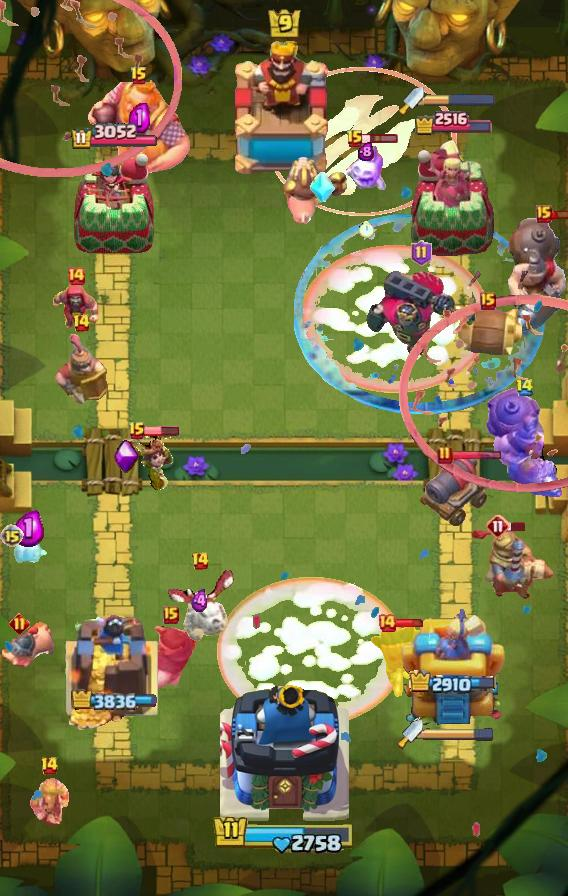bar: (401, 601, 505, 731), (409, 138, 497, 256)
bat: (7, 540, 49, 574)
bomber-evolution: (131, 432, 175, 492)
bowler: (51, 281, 101, 337)
clock: (212, 814, 356, 856)
earthquake: (54, 332, 108, 404)
electro-spirit: (13, 510, 43, 547), (130, 103, 151, 133), (191, 589, 209, 613), (358, 143, 374, 161)
elixir: (359, 221, 373, 238)
emote: (450, 451, 502, 462), (361, 133, 398, 145), (144, 425, 180, 437), (394, 618, 426, 628), (507, 521, 527, 532), (550, 208, 568, 219)
executioner: (0, 622, 54, 672)
freeze: (283, 155, 347, 229)
giant-skeleton: (86, 76, 192, 178)
goblin-barrel: (369, 623, 429, 699)
ice-wizard: (267, 67, 457, 217)
inferno-tower: (365, 269, 477, 357)
king-tower: (219, 678, 349, 826), (228, 41, 340, 181)
king-tower-bar: (424, 93, 496, 107), (423, 727, 495, 741)
mini-pekka: (164, 566, 236, 644)
mirror: (345, 143, 387, 193)
pad_0: (294, 212, 548, 414)
pad_2: (310, 172, 336, 204)
phoenix-big: (298, 243, 492, 394), (216, 578, 406, 727)
queen-tower: (62, 613, 165, 731), (71, 152, 157, 256)
ram-rider: (469, 527, 557, 601)
royal-giant-evolution: (419, 454, 489, 528)
royal-hog: (144, 622, 198, 698)
selected: (69, 123, 158, 151), (410, 671, 499, 698), (413, 109, 493, 136), (70, 691, 157, 709)
skeleton-barrel: (400, 270, 568, 493), (0, 0, 182, 179)
skeleton-king-skill: (114, 439, 140, 473)
text: (486, 514, 510, 538), (0, 524, 24, 548), (412, 240, 433, 266), (9, 614, 30, 635), (66, 266, 86, 286), (377, 613, 397, 633), (72, 313, 91, 333), (191, 551, 210, 571), (40, 756, 59, 776), (514, 379, 533, 398), (130, 66, 148, 86), (346, 129, 364, 149), (128, 421, 146, 441), (437, 445, 453, 465), (536, 205, 552, 223), (480, 292, 496, 310), (163, 606, 179, 624)
the-log: (451, 304, 525, 356)
wizard: (483, 386, 565, 500), (504, 217, 568, 335)
zap: (27, 778, 71, 828)
